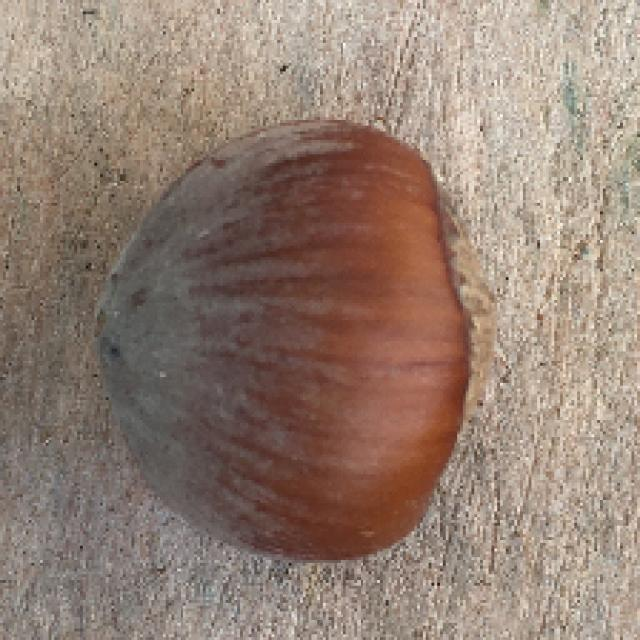QualityHazelnut: (93, 120, 498, 561)
